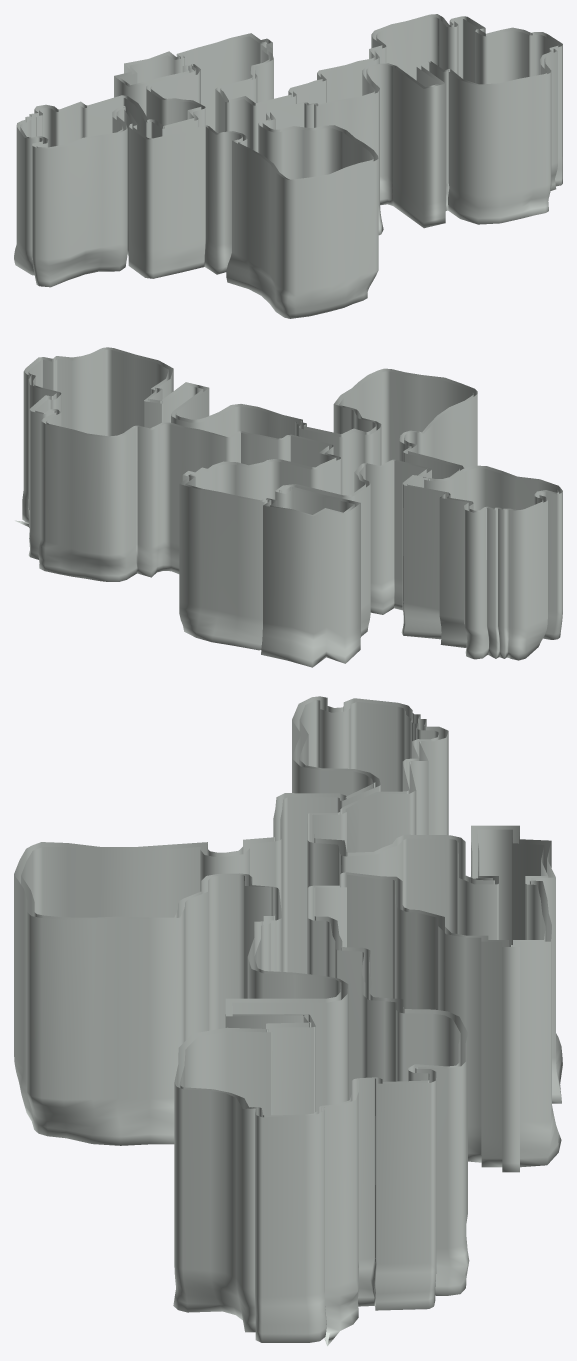
File: SM_CaveWalls.fbx
3 views of the same model, one above another, from view 1: azimuth 30°, elevation 25°; view 2: azimuth 150°, elevation 25°; view 3: azimuth 270°, elevation 25° (orthographic). The views are drawn at different scales.
Parts seen in each view (by area): view 1: CaveWalls_geo; view 2: CaveWalls_geo; view 3: CaveWalls_geo.
Part boxes in pixels (x1,y1,x2,y2): CaveWalls_geo: (14,14,562,318); CaveWalls_geo: (15,347,562,667); CaveWalls_geo: (14,696,562,1346).
Bounding box in the file's own units: 17878 × 4998 × 10182.
1 material, 1 textured.
